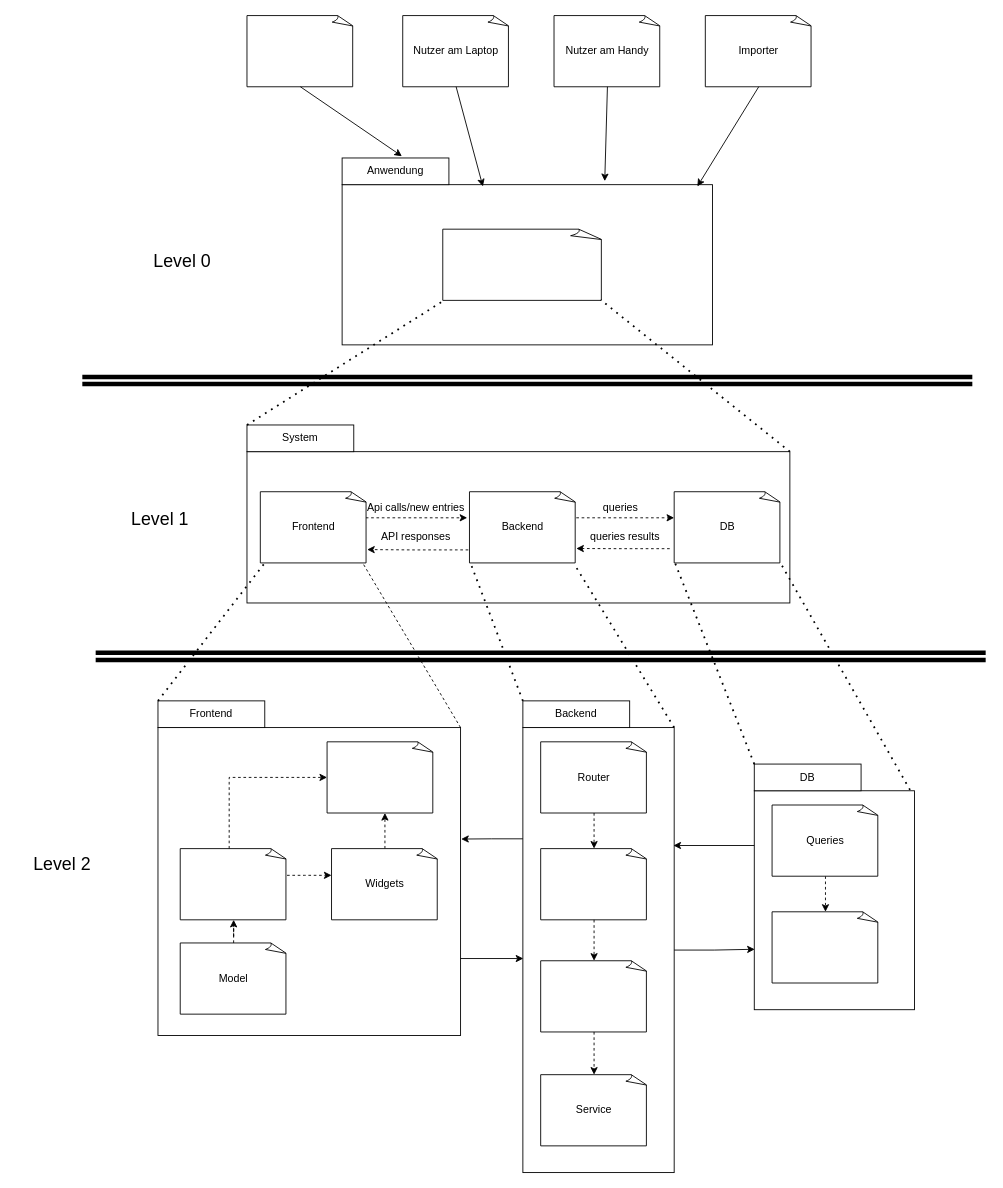
This 1003x1188 diagram has some shape labels left out. Here are the shapes that lost their labels. From the top down, the centre of each, then its label:
the point at 300,51: Admin
the point at 522,264: Erstellung, Bearbeitung Reports, Nutzerverwaltung, Import/ Export
the point at 380,777: styles
the point at 233,884: UI
the point at 593,884: Handlers
the point at 825,947: Data
the point at 593,996: Mapper
